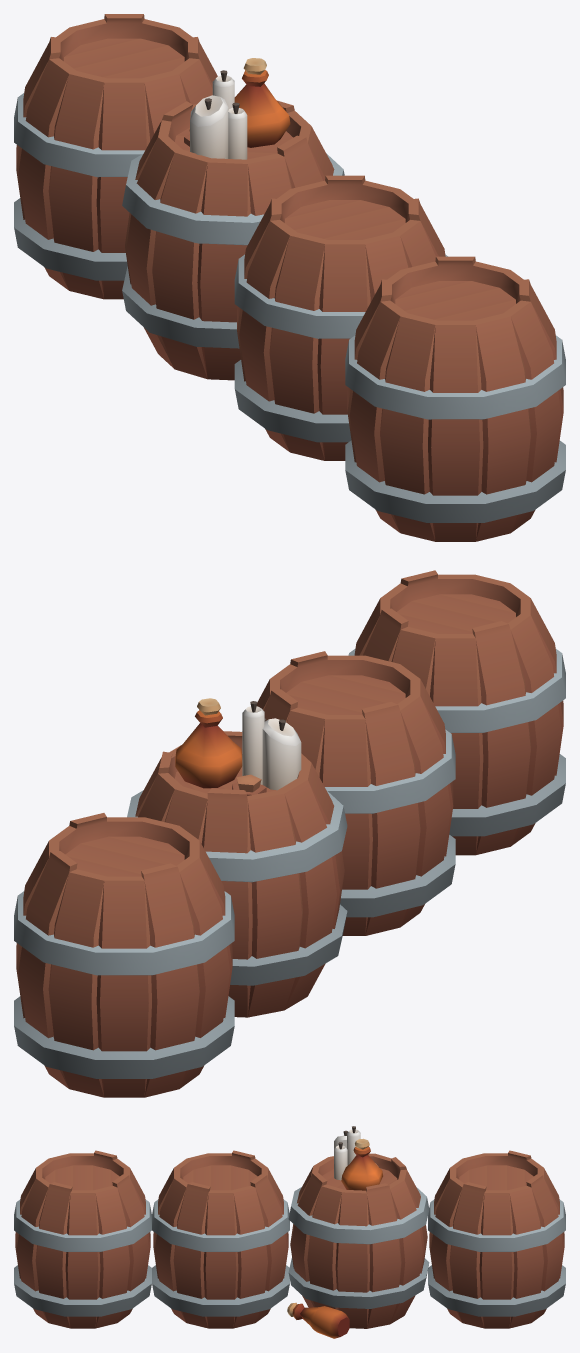
File: barrels.glb
The picture shows the model from 3 angles, top to bottom: view 1: azimuth 30°, elevation 25°; view 2: azimuth 150°, elevation 25°; view 3: azimuth 270°, elevation 25°; orthographic projection. The views are drawn at different scales.
Parts seen in each view (by area): view 1: barrel_large_decorated.001; view 2: barrel_large_decorated.001; view 3: barrel_large_decorated.001.
Part boxes in pixels (x1,y1,x2,y2): barrel_large_decorated.001: (14,14,565,541); barrel_large_decorated.001: (14,570,565,1097); barrel_large_decorated.001: (14,1126,565,1338).
Bounding box in the file's own units: 1.94 × 2.56 × 7.2.
Materials: 2 (2 with a texture image).
